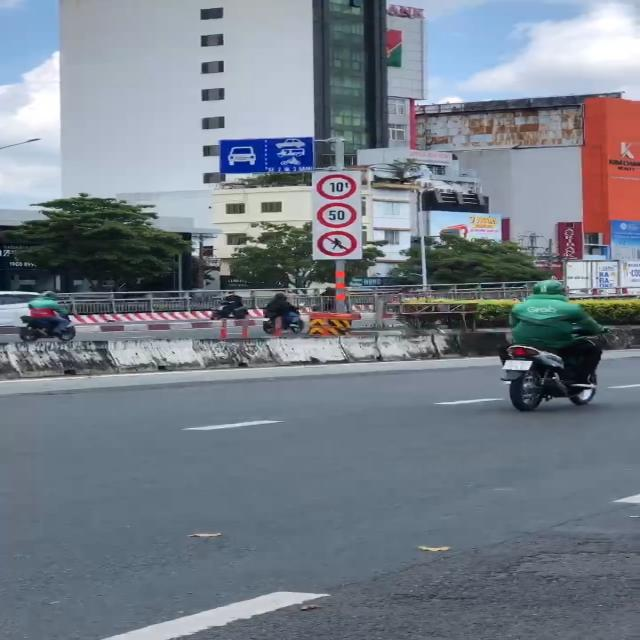Bien bao cam nguoi di bo: (316, 229, 364, 260)
Bien bao toc do toi da cho phep: (314, 202, 358, 228)
